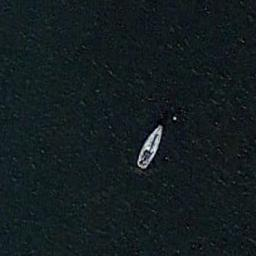boat: (136, 123, 163, 169)
